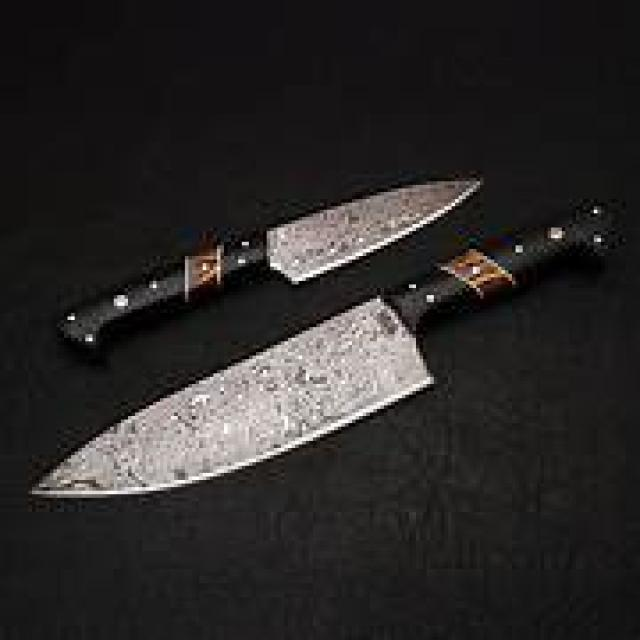Knife: (39, 210, 604, 491), (64, 181, 480, 341)
